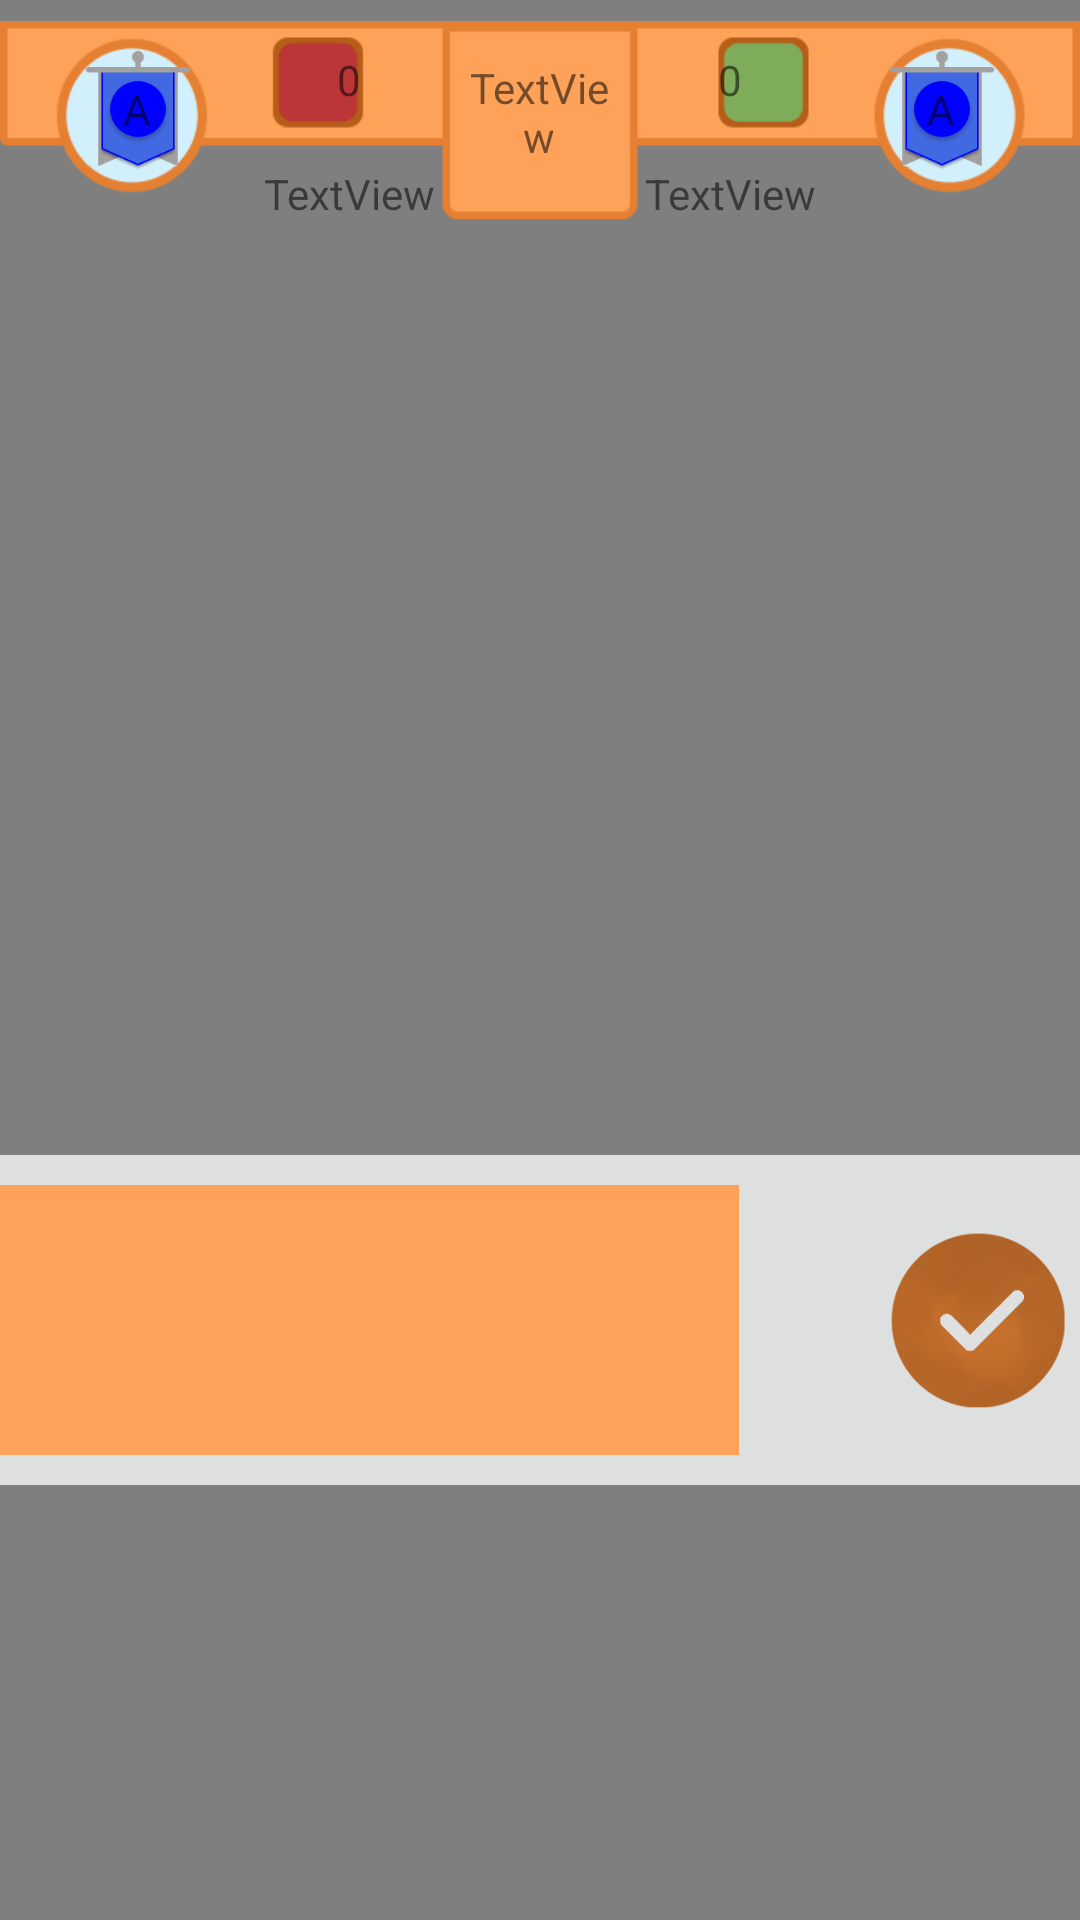

Locate icon controls on the screen. Image size 1080 x 1920, boxes as (x1, y1, x2, y2).
buttom circ: (891, 1233, 1065, 1408)
